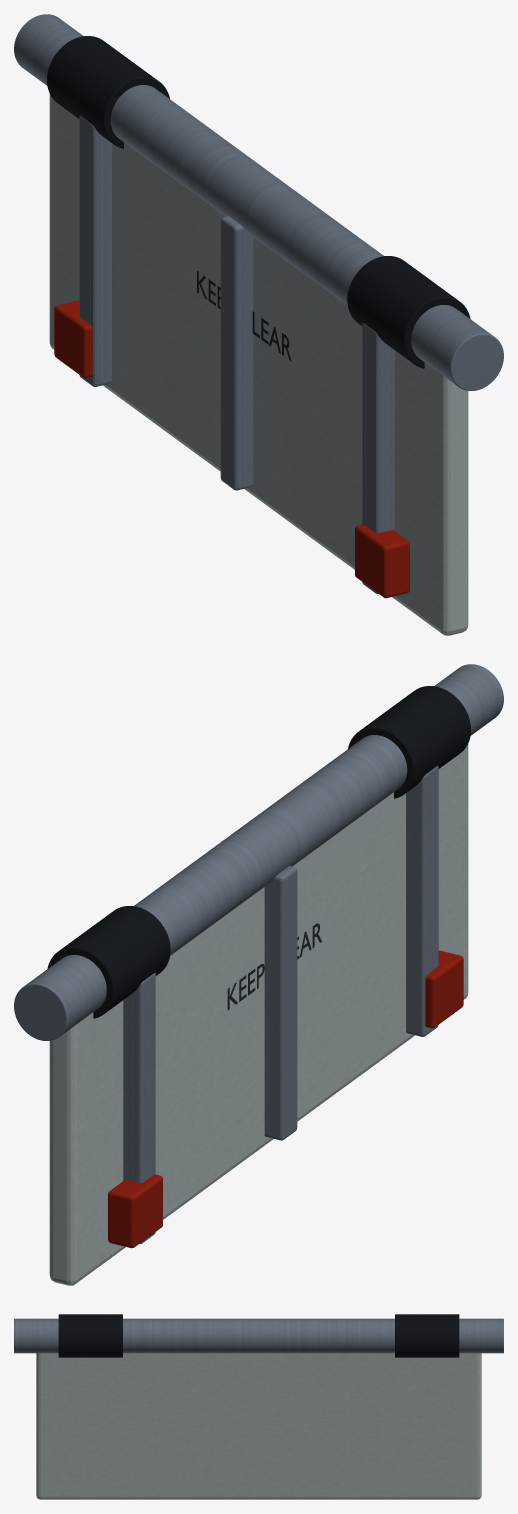
Rendered from tailgate.glb.
The picture shows the model from 3 angles, top to bottom: view 1: azimuth 30°, elevation 25°; view 2: azimuth 150°, elevation 25°; view 3: azimuth 270°, elevation 25°; orthographic projection. The views are drawn at different scales.
Parts seen in each view (by area): view 1: tailgate; view 2: tailgate; view 3: tailgate.
Boxes of the visible parts, bbox=[...] form: tailgate: bbox=[14, 14, 503, 635]; tailgate: bbox=[14, 664, 503, 1285]; tailgate: bbox=[14, 1314, 503, 1499].
Bounding box in the file's own units: 0.0965 × 0.404 × 0.99.
5 materials, 4 textured.
